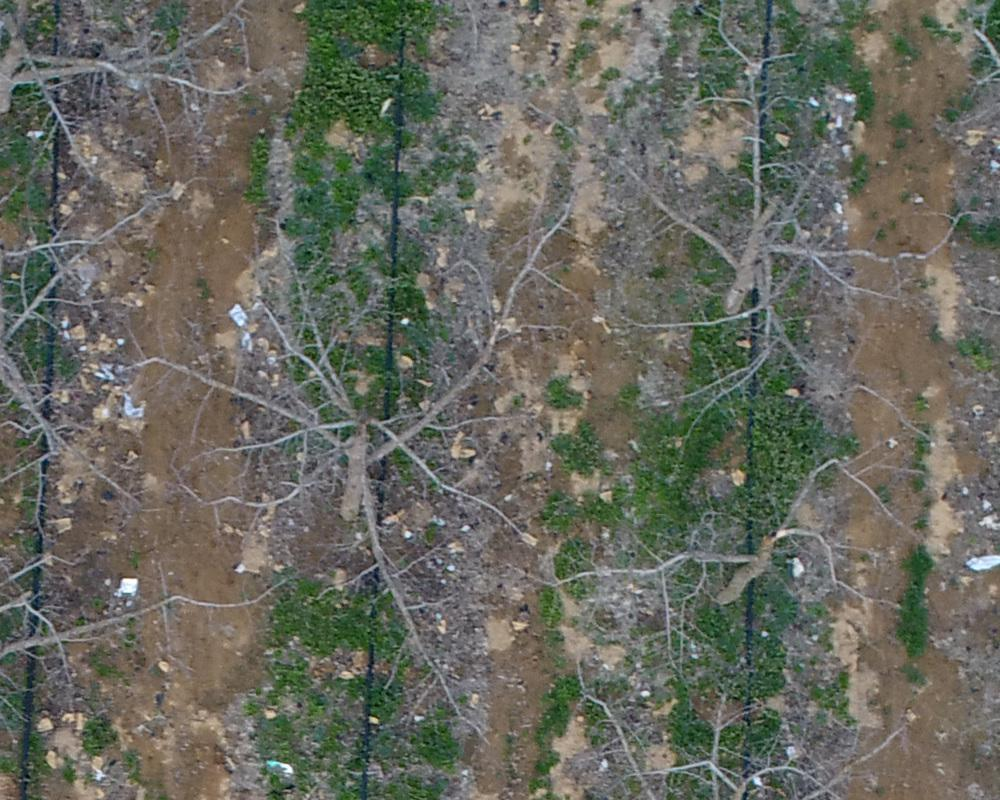apple: (168, 209, 561, 716), (605, 20, 939, 422), (563, 463, 896, 647), (10, 528, 211, 773)
